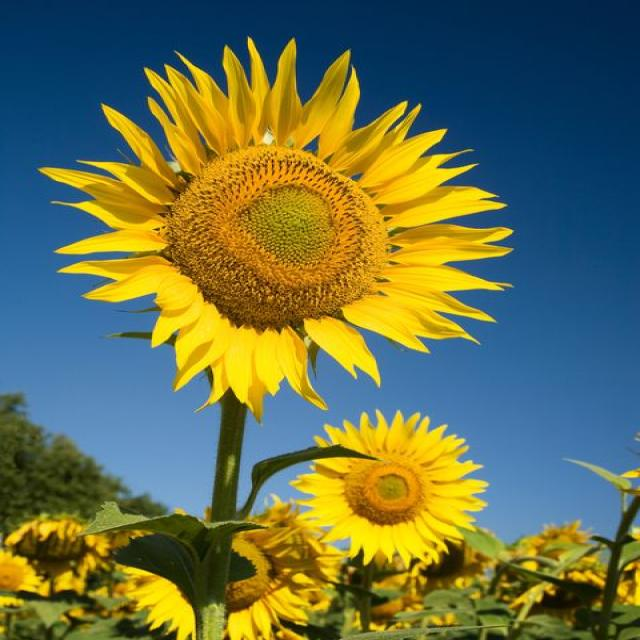sunflower: (67, 27, 517, 396), (292, 404, 492, 570)
